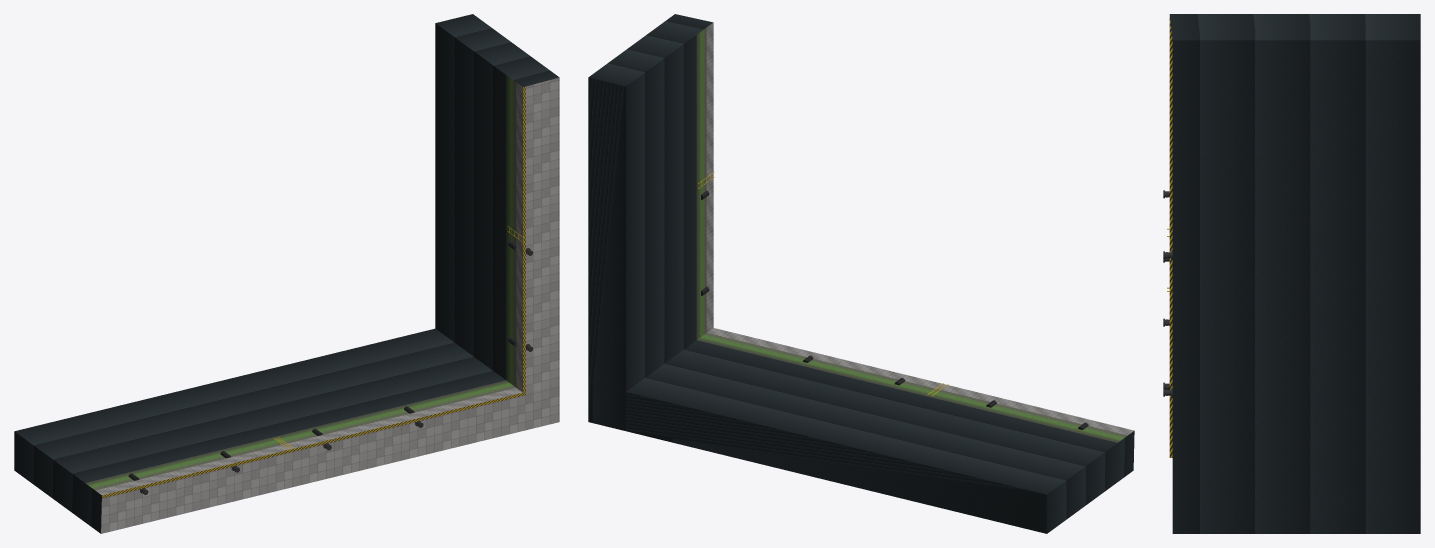
File: harbor_wall_l_shape.obj
3 views of the same model, side by side, from view 1: azimuth 30°, elevation 25°; view 2: azimuth 150°, elevation 25°; view 3: azimuth 270°, elevation 25° (orthographic). The views are drawn at different scales.
Bounding box in the file's own units: 55 × 39.5 × 18.68.
8 materials, 8 textured.
